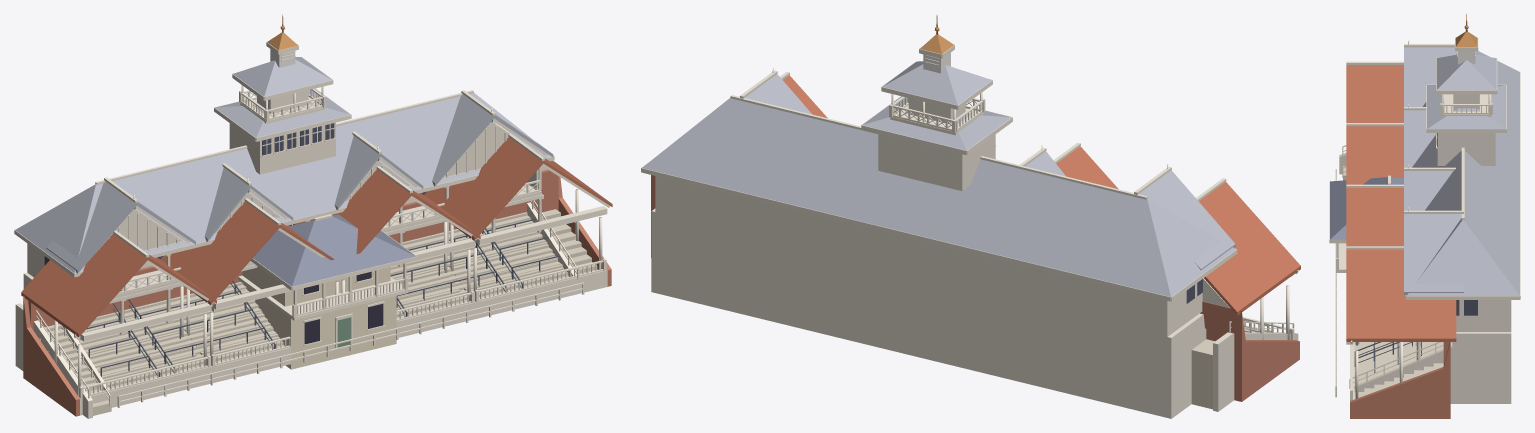
Rendered from gen-hill-r-small_stands.glb.
3 renders of one model, left to right at view 1: azimuth 30°, elevation 25°; view 2: azimuth 150°, elevation 25°; view 3: azimuth 270°, elevation 25°, orthographic. The views are drawn at different scales.
Visible parts, largest first — view 1: gen_pavilion_stand, chester_tattersalls, victorian_pavilion; view 2: gen_pavilion_stand, chester_tattersalls; view 3: gen_pavilion_stand, chester_tattersalls, victorian_pavilion.
Boxes of the visible parts, bbox=[...] form: gen_pavilion_stand: bbox=[14, 14, 584, 418]; chester_tattersalls: bbox=[21, 123, 612, 416]; victorian_pavilion: bbox=[238, 214, 416, 369]; gen_pavilion_stand: bbox=[641, 14, 1298, 418]; chester_tattersalls: bbox=[651, 72, 1300, 401]; gen_pavilion_stand: bbox=[1335, 14, 1520, 403]; chester_tattersalls: bbox=[1346, 61, 1456, 418]; victorian_pavilion: bbox=[1329, 175, 1403, 272].
Size of the model in its own units: 50.81 by 27 by 16.4.
